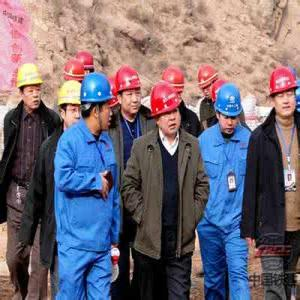blue: (79, 73, 114, 133), (215, 84, 243, 137)
red: (148, 80, 182, 139), (269, 68, 299, 120), (115, 67, 143, 118), (198, 64, 219, 101)
yellow: (17, 63, 45, 113), (58, 80, 85, 130)
